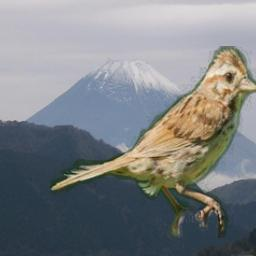Sparrow: (50, 46, 256, 238)
